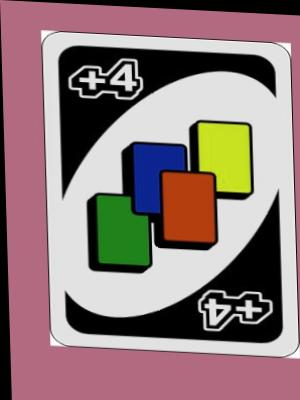wild-4: (41, 33, 298, 356)
